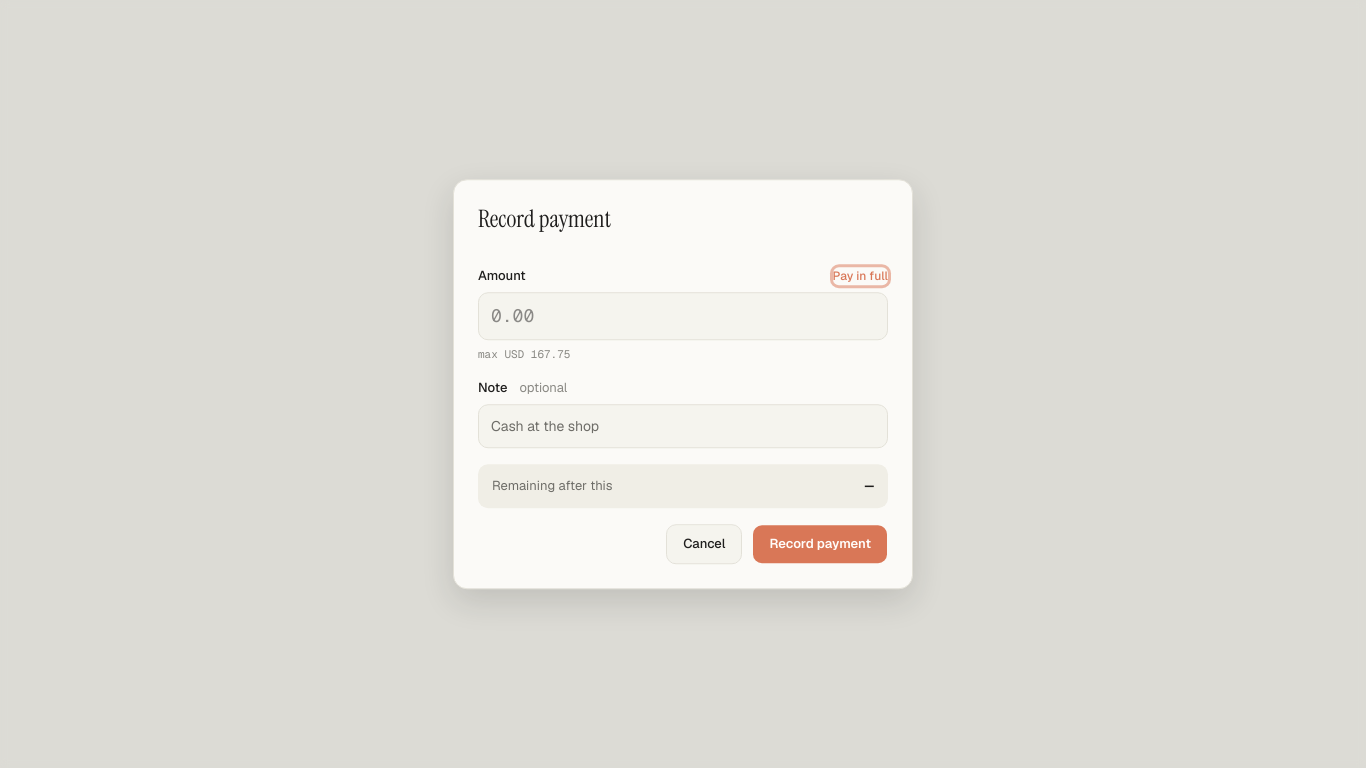
Test case: RecordPaymentDialog › says someone else got there first on the 409, and quotes no balance
The width and height of the screenshot is (1366, 768).
In the field labelled "Amount": (683, 316) [478, 292, 888, 340], type "160"
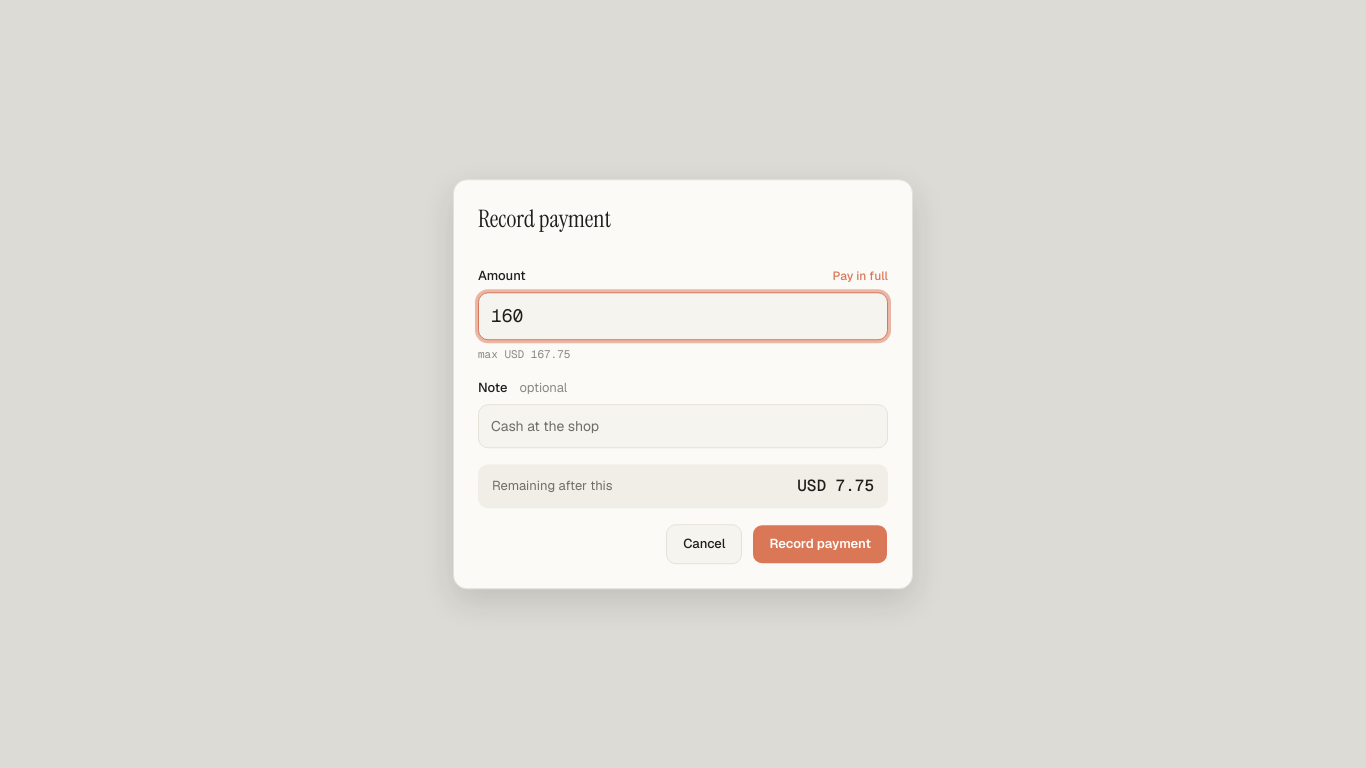
Click the button "Record payment": (820, 544) [752, 524, 888, 564]
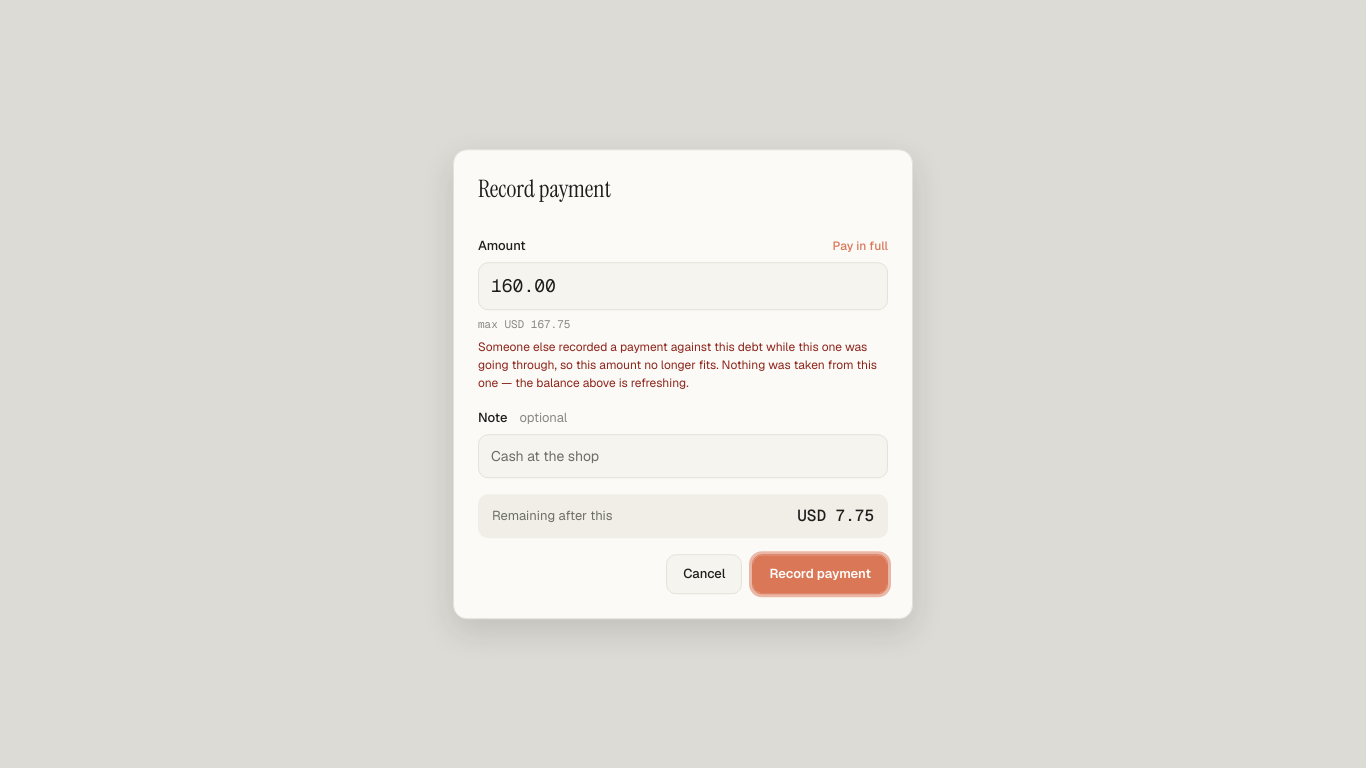
Expected: the message does not show "167.75", [478, 338, 888, 392]
Now the message shows "Someone else recorded a payment", box [478, 339, 877, 391]
